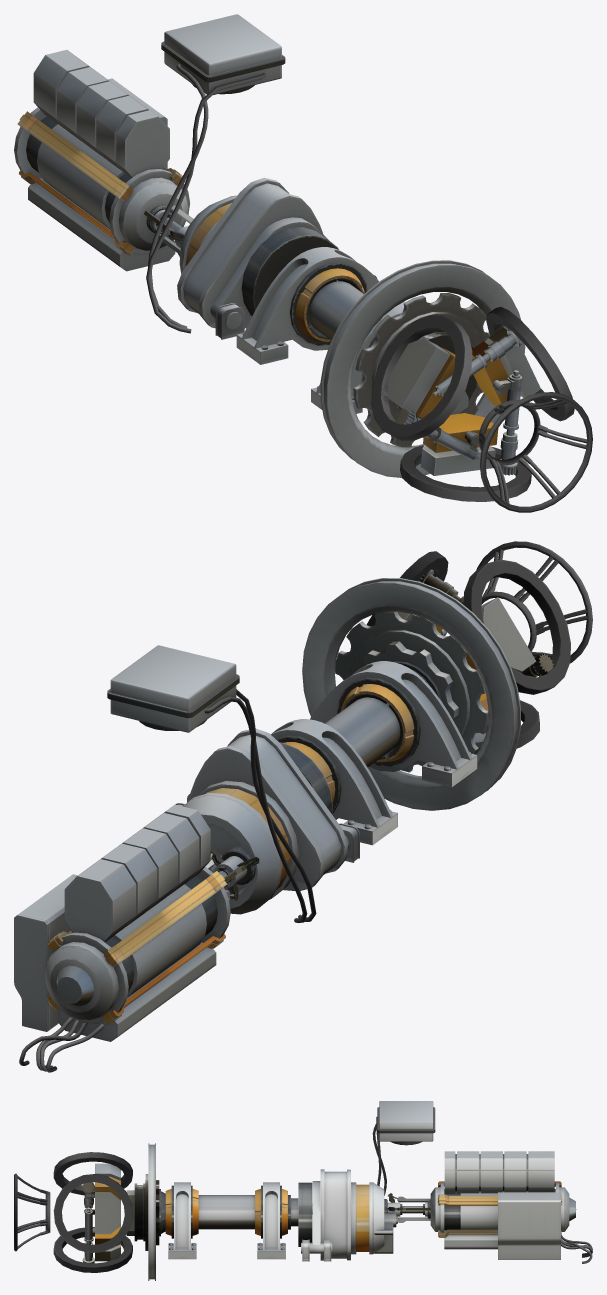
File: equipment_cc.glb
3 views of the same model, one above another, from view 1: azimuth 30°, elevation 25°; view 2: azimuth 150°, elevation 25°; view 3: azimuth 270°, elevation 25° (orthographic). The views are drawn at different scales.
Parts seen in each view (by area): view 1: polySurface152, polySurface230, pasted__extrudedSurface8, polySurface156, polySurface258, pasted__pCube97, pasted__extrudedSurface2, pasted__group59_pCylinder158; view 2: polySurface152, pasted__extrudedSurface8, polySurface258, polySurface230, polySurface156, pasted__pCube97, pasted__extrudedSurface2, pasted__pCube70, pasted__group59_pCylinder158; view 3: polySurface152, polySurface230, polySurface258, pasted__extrudedSurface8, pasted__pCube97, pasted__pCube70, pasted__extrudedSurface2, polySurface156, pasted__group59_pCylinder158.
Boxes of the visible parts, <box> form: polySurface152: <box>353,293,592,512</box>; polySurface230: <box>177,177,377,339</box>; pasted__extrudedSurface8: <box>14,107,190,271</box>; polySurface156: <box>320,260,525,477</box>; polySurface258: <box>236,247,405,413</box>; pasted__pCube97: <box>33,50,169,177</box>; pasted__extrudedSurface2: <box>146,14,285,333</box>; pasted__group59_pCylinder158: <box>144,205,193,256</box>; polySurface152: <box>335,541,592,772</box>; pasted__extrudedSurface8: <box>19,866,230,1072</box>; polySurface258: <box>271,661,477,845</box>; polySurface230: <box>175,728,359,914</box>; polySurface156: <box>302,578,520,810</box>; pasted__pCube97: <box>64,804,210,942</box>; pasted__extrudedSurface2: <box>107,645,316,922</box>; pasted__pCube70: <box>14,874,77,1031</box>; pasted__group59_pCylinder158: <box>205,846,259,900</box>; polySurface152: <box>14,1152,159,1272</box>; polySurface230: <box>298,1169,397,1261</box>; polySurface258: <box>159,1182,298,1259</box>; pasted__extrudedSurface8: <box>430,1181,592,1263</box>; pasted__pCube97: <box>444,1151,554,1193</box>; pasted__pCube70: <box>498,1192,560,1259</box>; pasted__extrudedSurface2: <box>372,1101,435,1195</box>; polySurface156: <box>148,1143,155,1280</box>; pasted__group59_pCylinder158: <box>384,1193,430,1222</box>.
Bounding box in the file's own units: 408 × 545 × 1716.
1 material, 1 textured.
